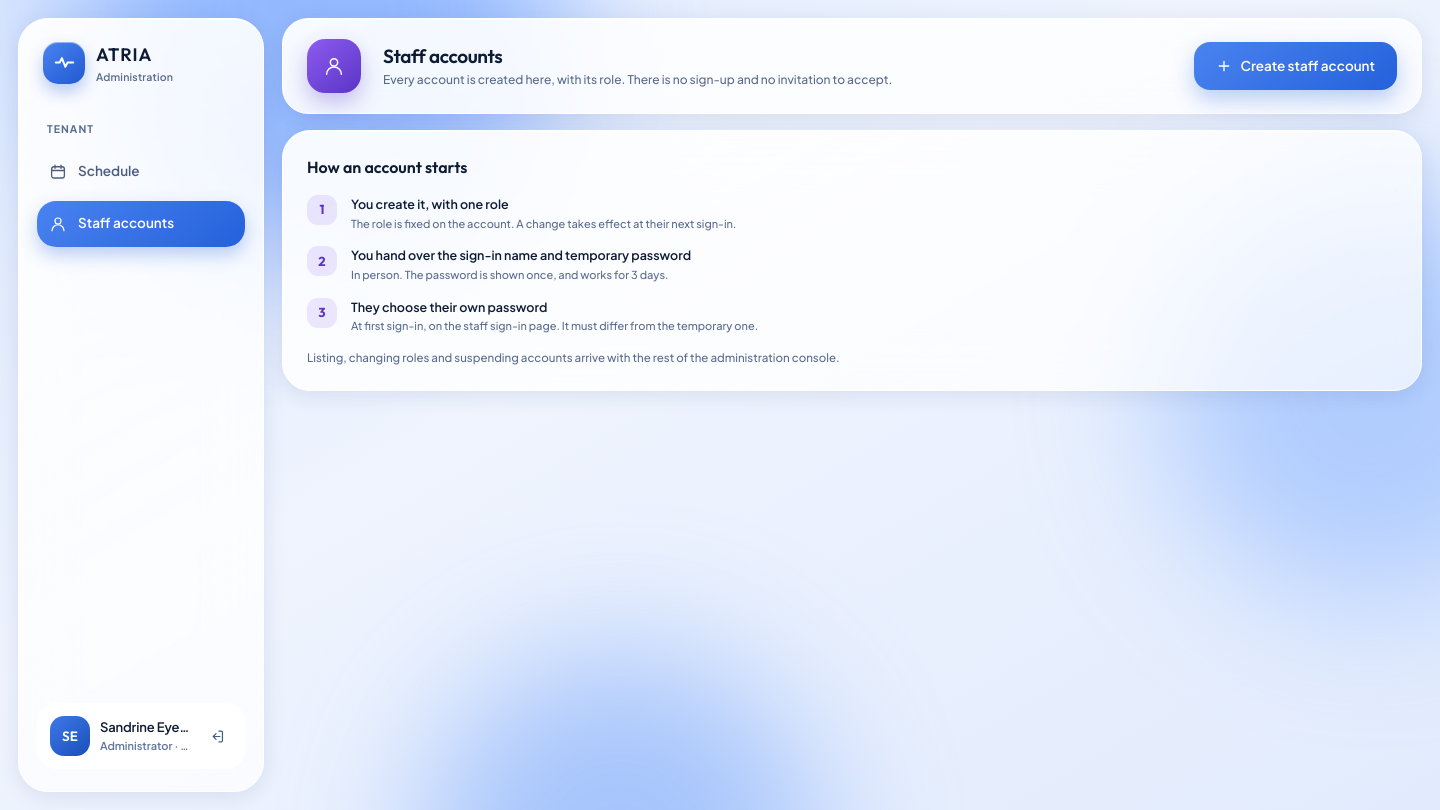
Scenario: Staff accounts › fr_acc_04: creates a receptionist at a clinic, and shows the password once
Step 1. Click the button "Create staff account" → (1296, 66), box [1194,42,1397,90]
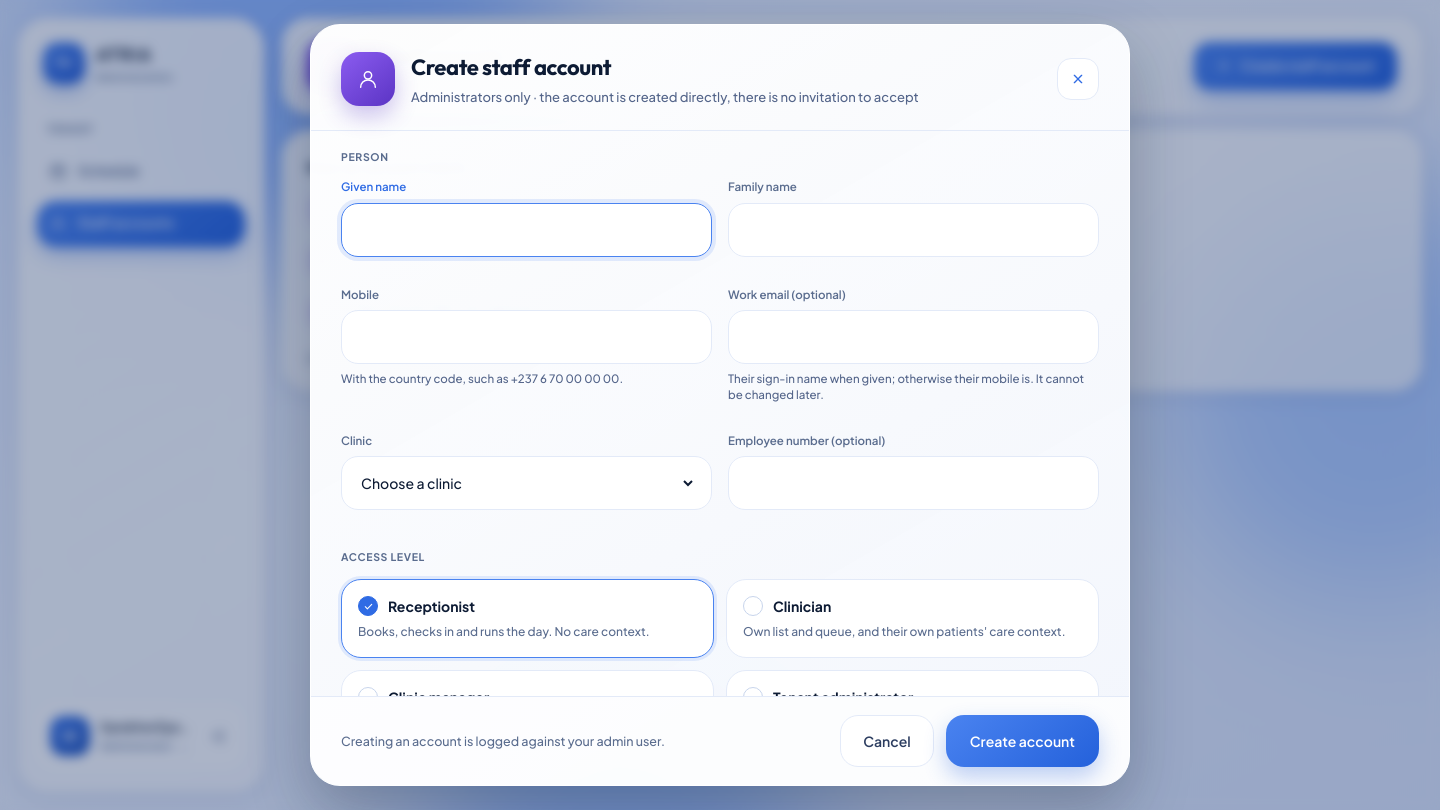
Step 2. Type "Kofi" into the field labelled "Given name" → (526, 230), box [357,204,696,256]
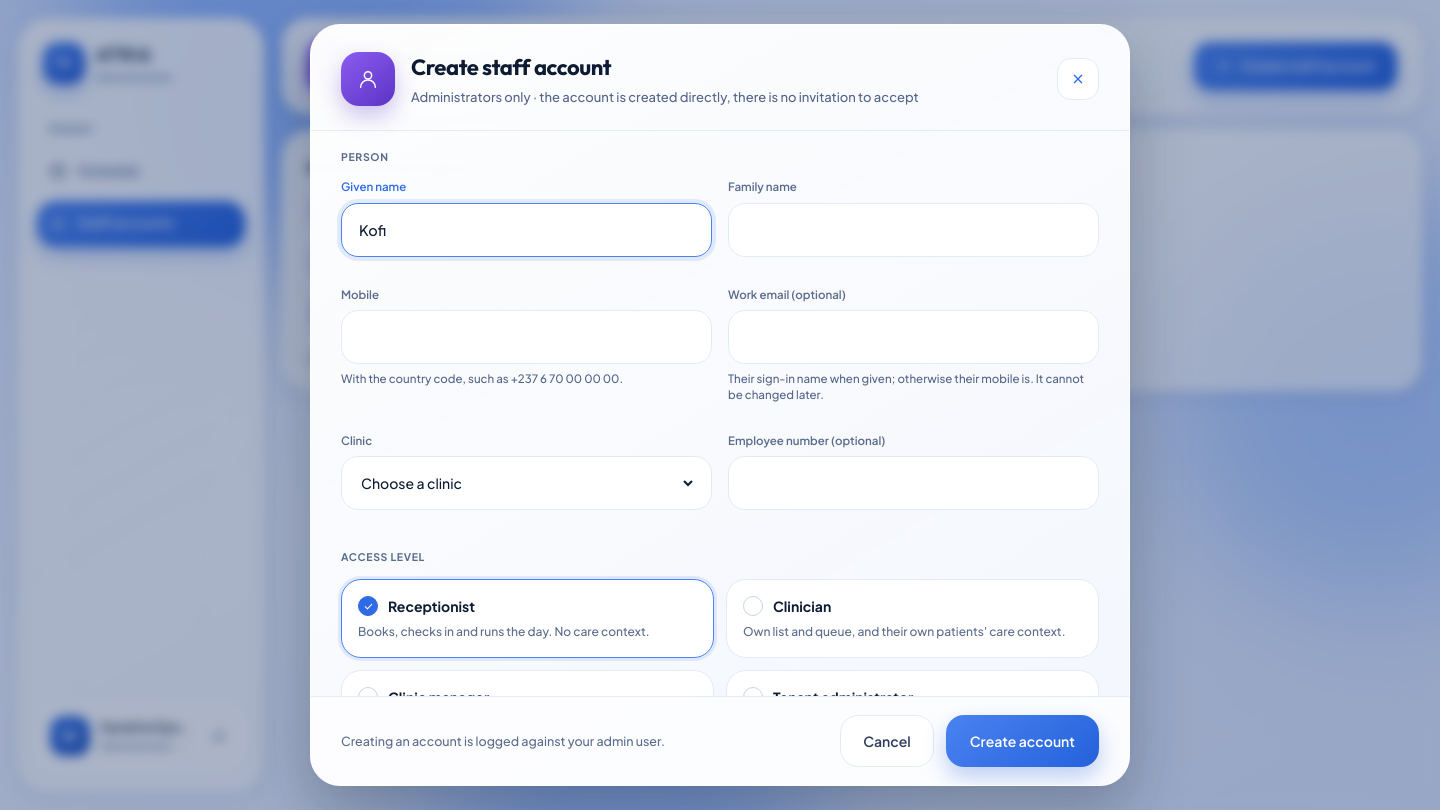
Step 3. Type "Boateng" into the field labelled "Family name" → (914, 230), box [744,204,1083,256]
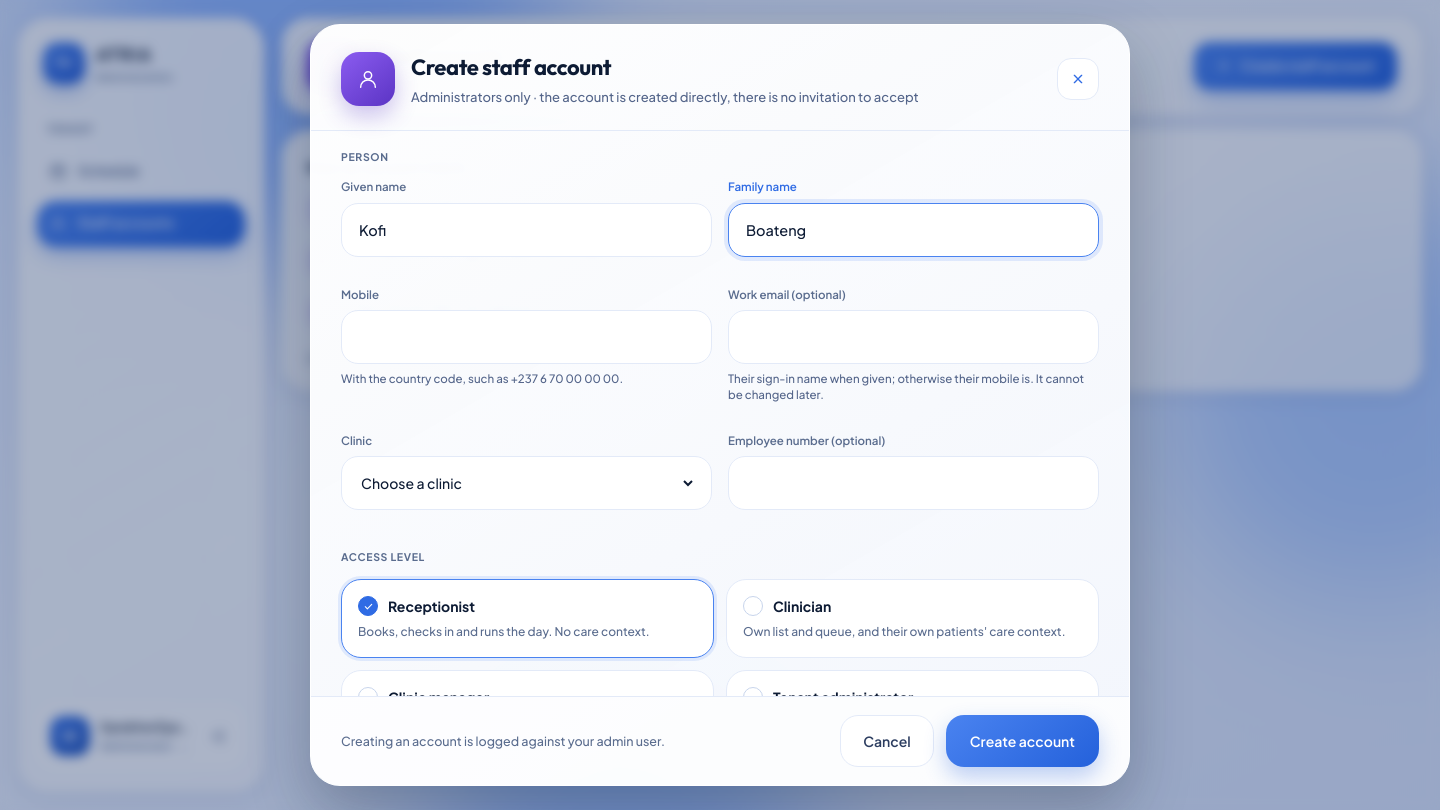
Step 4. Type "+1 202 555 0177" into the field labelled "Mobile" → (526, 337), box [357,311,696,363]
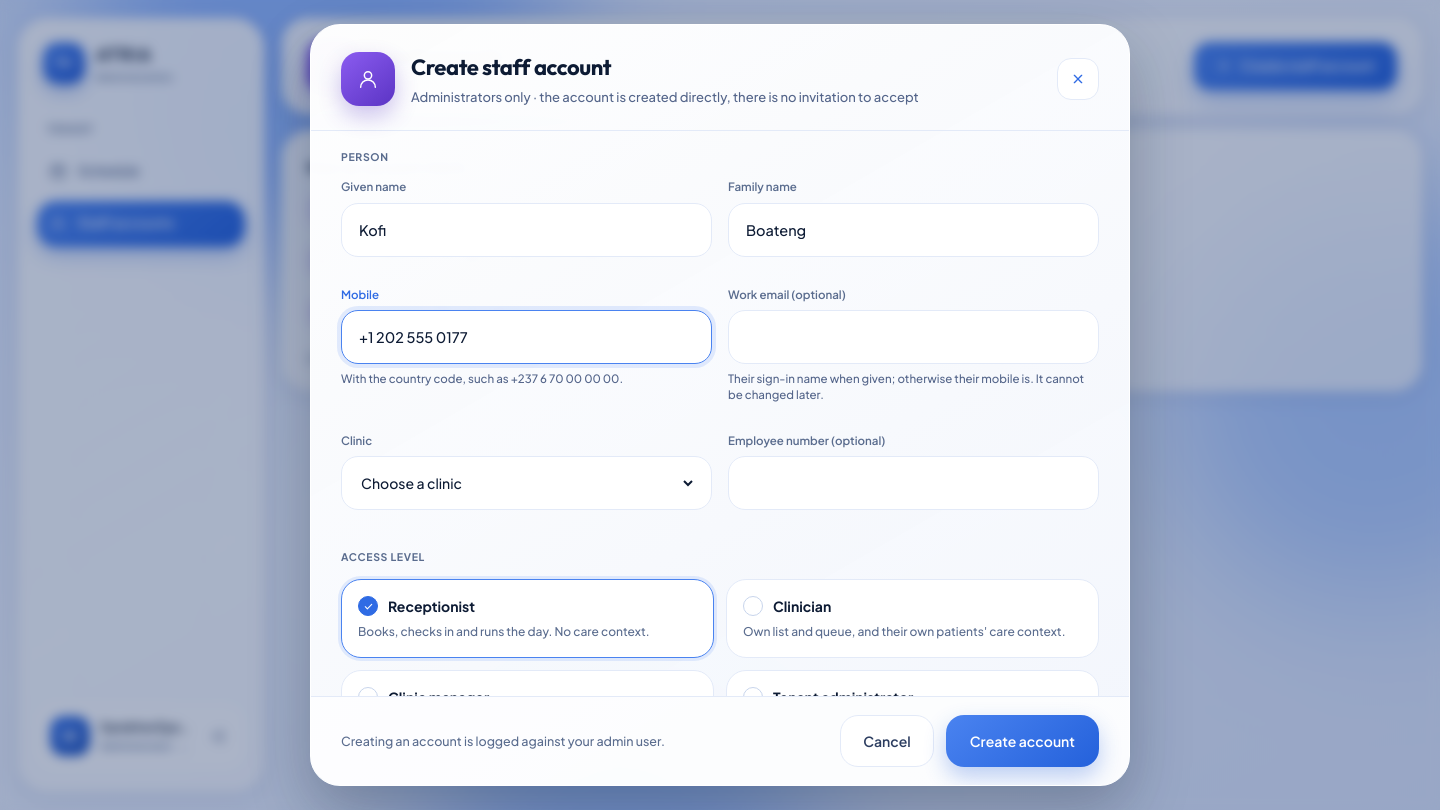
Step 5. Select "Clinique d'Akwa" in the dropdown → (526, 483), box [357,457,696,509]
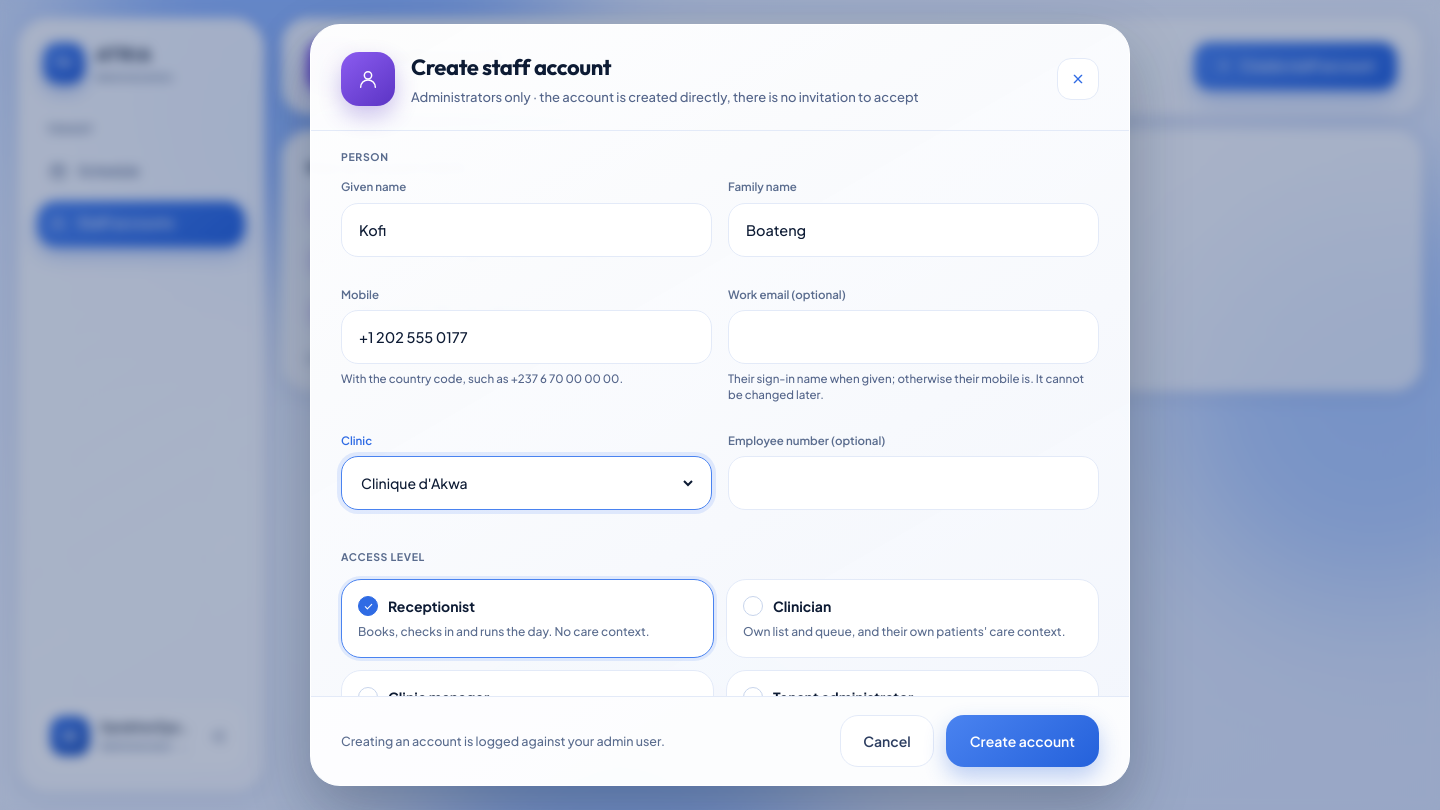
Step 6. Click the button "Create account" → (1022, 741), box [946,715,1099,767]
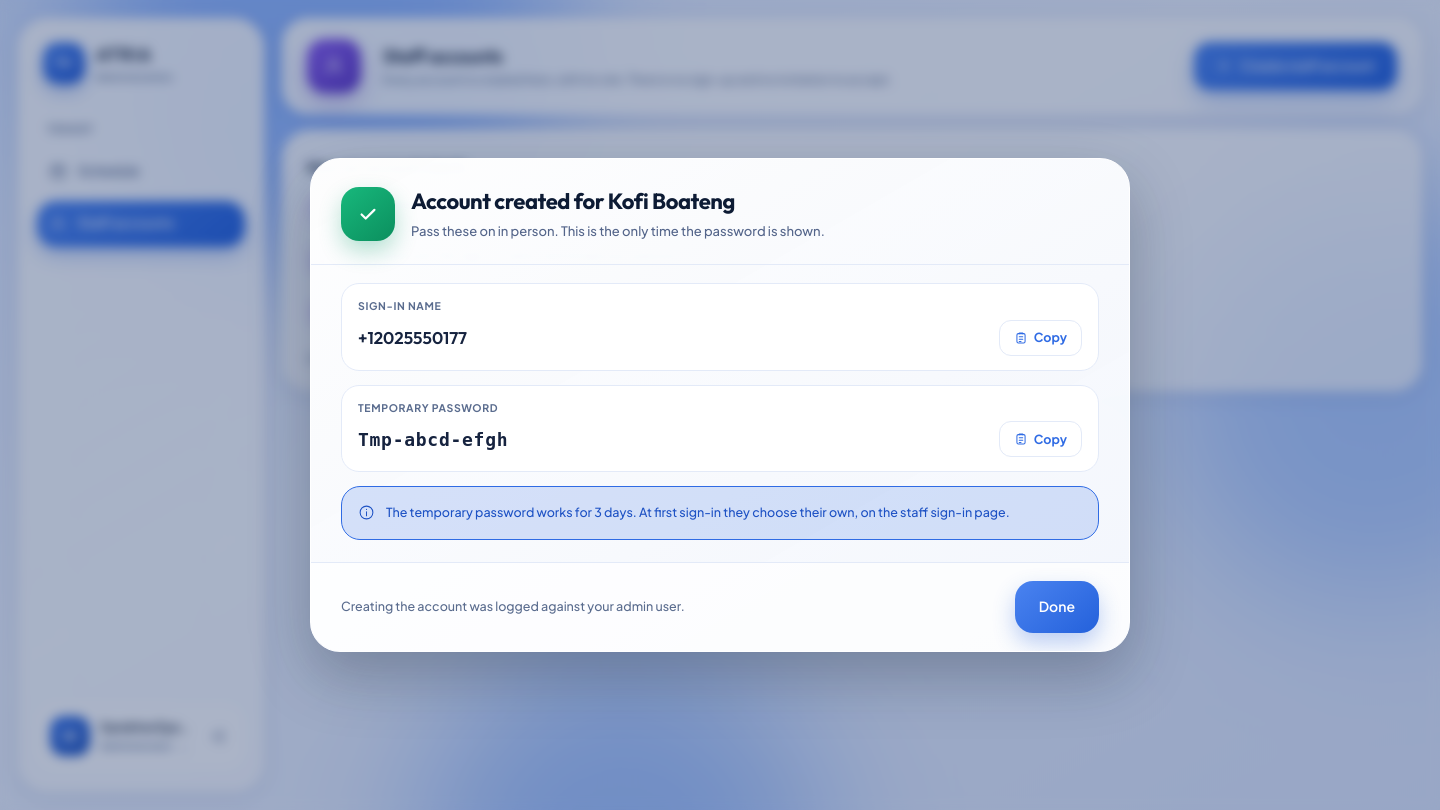
Now the dialog "Account created for Kofi Boateng" shows "Tmp-abcd-efgh", box [358,429,508,450]
Now the dialog "Account created for Kofi Boateng" shows "only time the password is shown", box [411,223,825,239]
